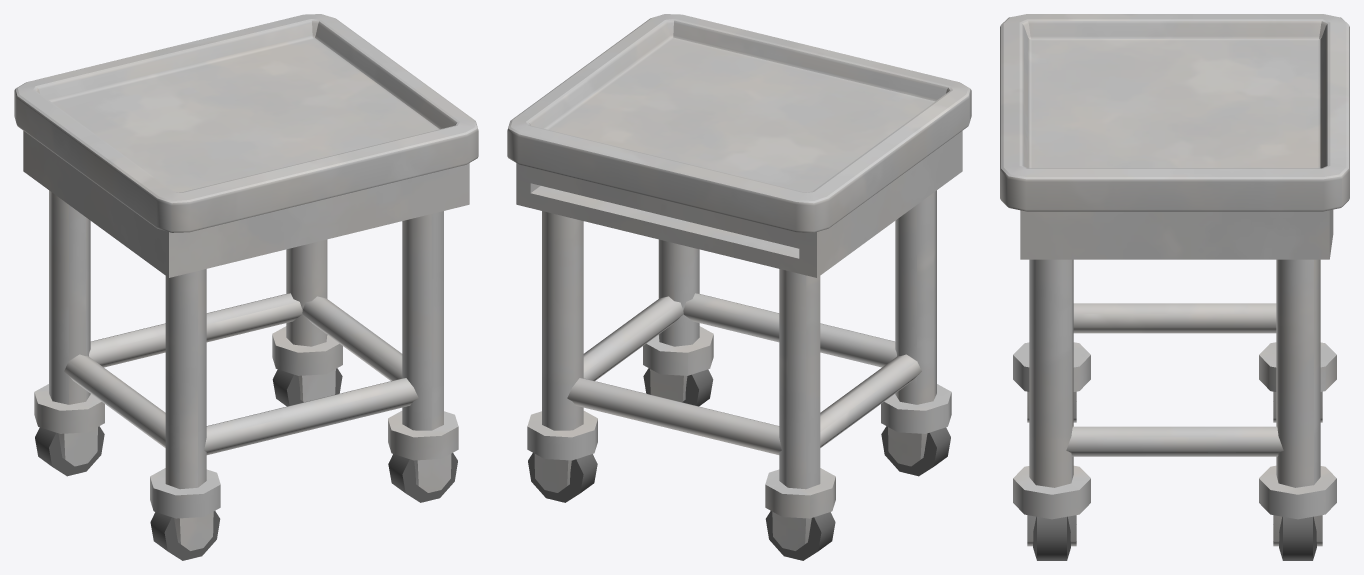
The model's file is Pfb_Utility_Cart.fbx.
3 renders of one model, left to right at view 1: azimuth 30°, elevation 25°; view 2: azimuth 150°, elevation 25°; view 3: azimuth 270°, elevation 25°, orthographic. The views are drawn at different scales.
Visible parts, largest first — view 1: Mat_Tile_Color_03, Mat_Tile_Color_01 1; view 2: Mat_Tile_Color_03, Mat_Tile_Color_01 1; view 3: Mat_Tile_Color_03, Mat_Tile_Color_01 1.
Part boxes in pixels (<box>): Mat_Tile_Color_03: <box>14,14,478,550</box>; Mat_Tile_Color_01 1: <box>35,368,457,560</box>; Mat_Tile_Color_03: <box>507,14,971,550</box>; Mat_Tile_Color_01 1: <box>528,368,950,560</box>; Mat_Tile_Color_03: <box>1000,14,1349,546</box>; Mat_Tile_Color_01 1: <box>1033,516,1316,560</box>.
Size of the model in its own units: 0.595 by 0.6686 by 0.5298.
Materials: 2 (2 with a texture image).
